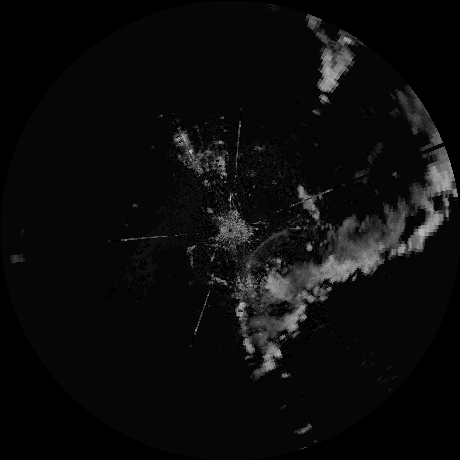frontgust: (245, 226, 309, 268)
